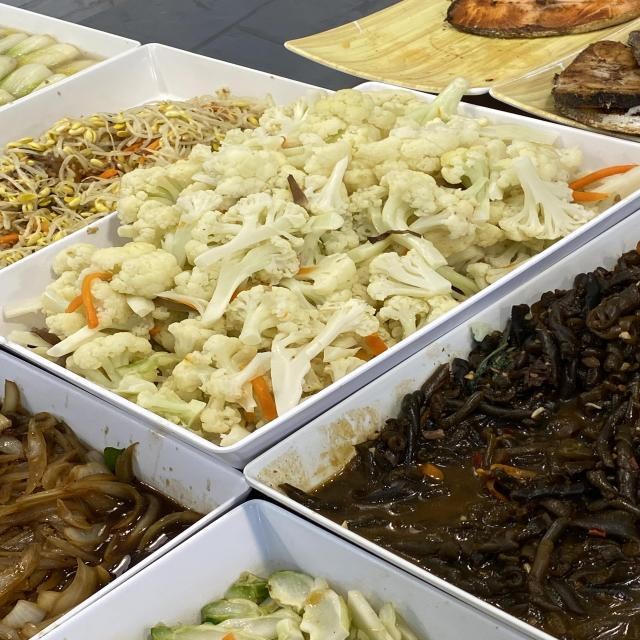cauliflower: (204, 143, 477, 290)
